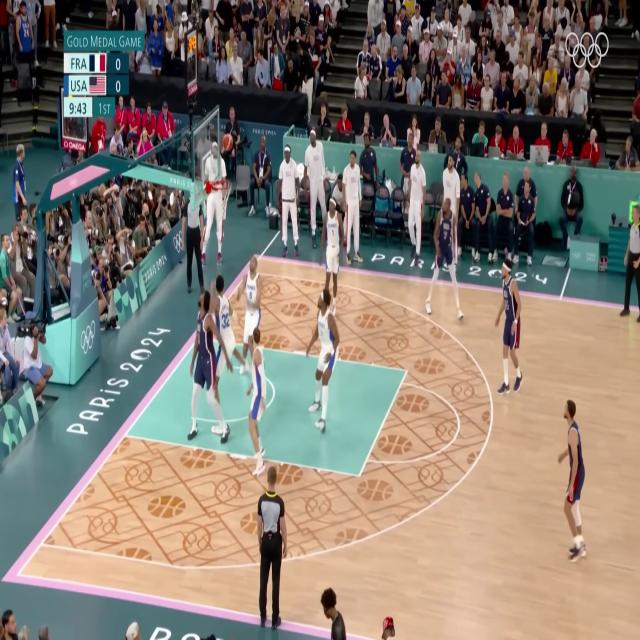player: (182, 284, 224, 453), (198, 268, 245, 416), (556, 394, 590, 566), (240, 330, 276, 479), (493, 256, 525, 403), (308, 286, 338, 439), (429, 196, 464, 324), (234, 253, 267, 369), (322, 196, 344, 306)
